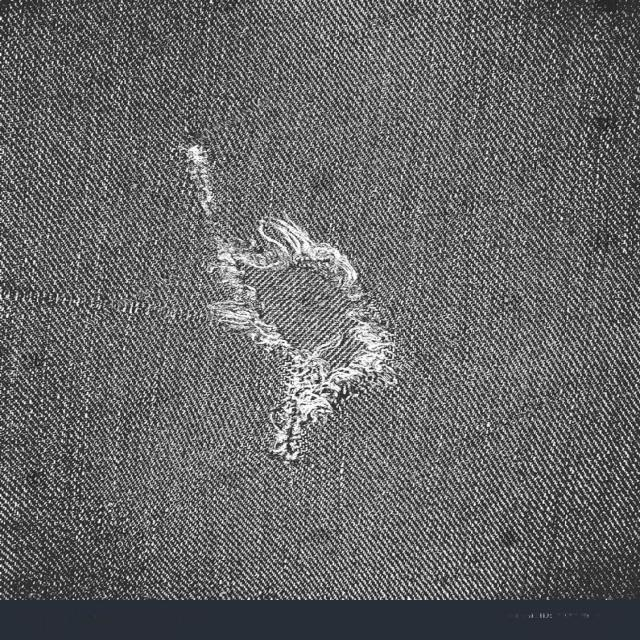Hole: (184, 144, 396, 463)
